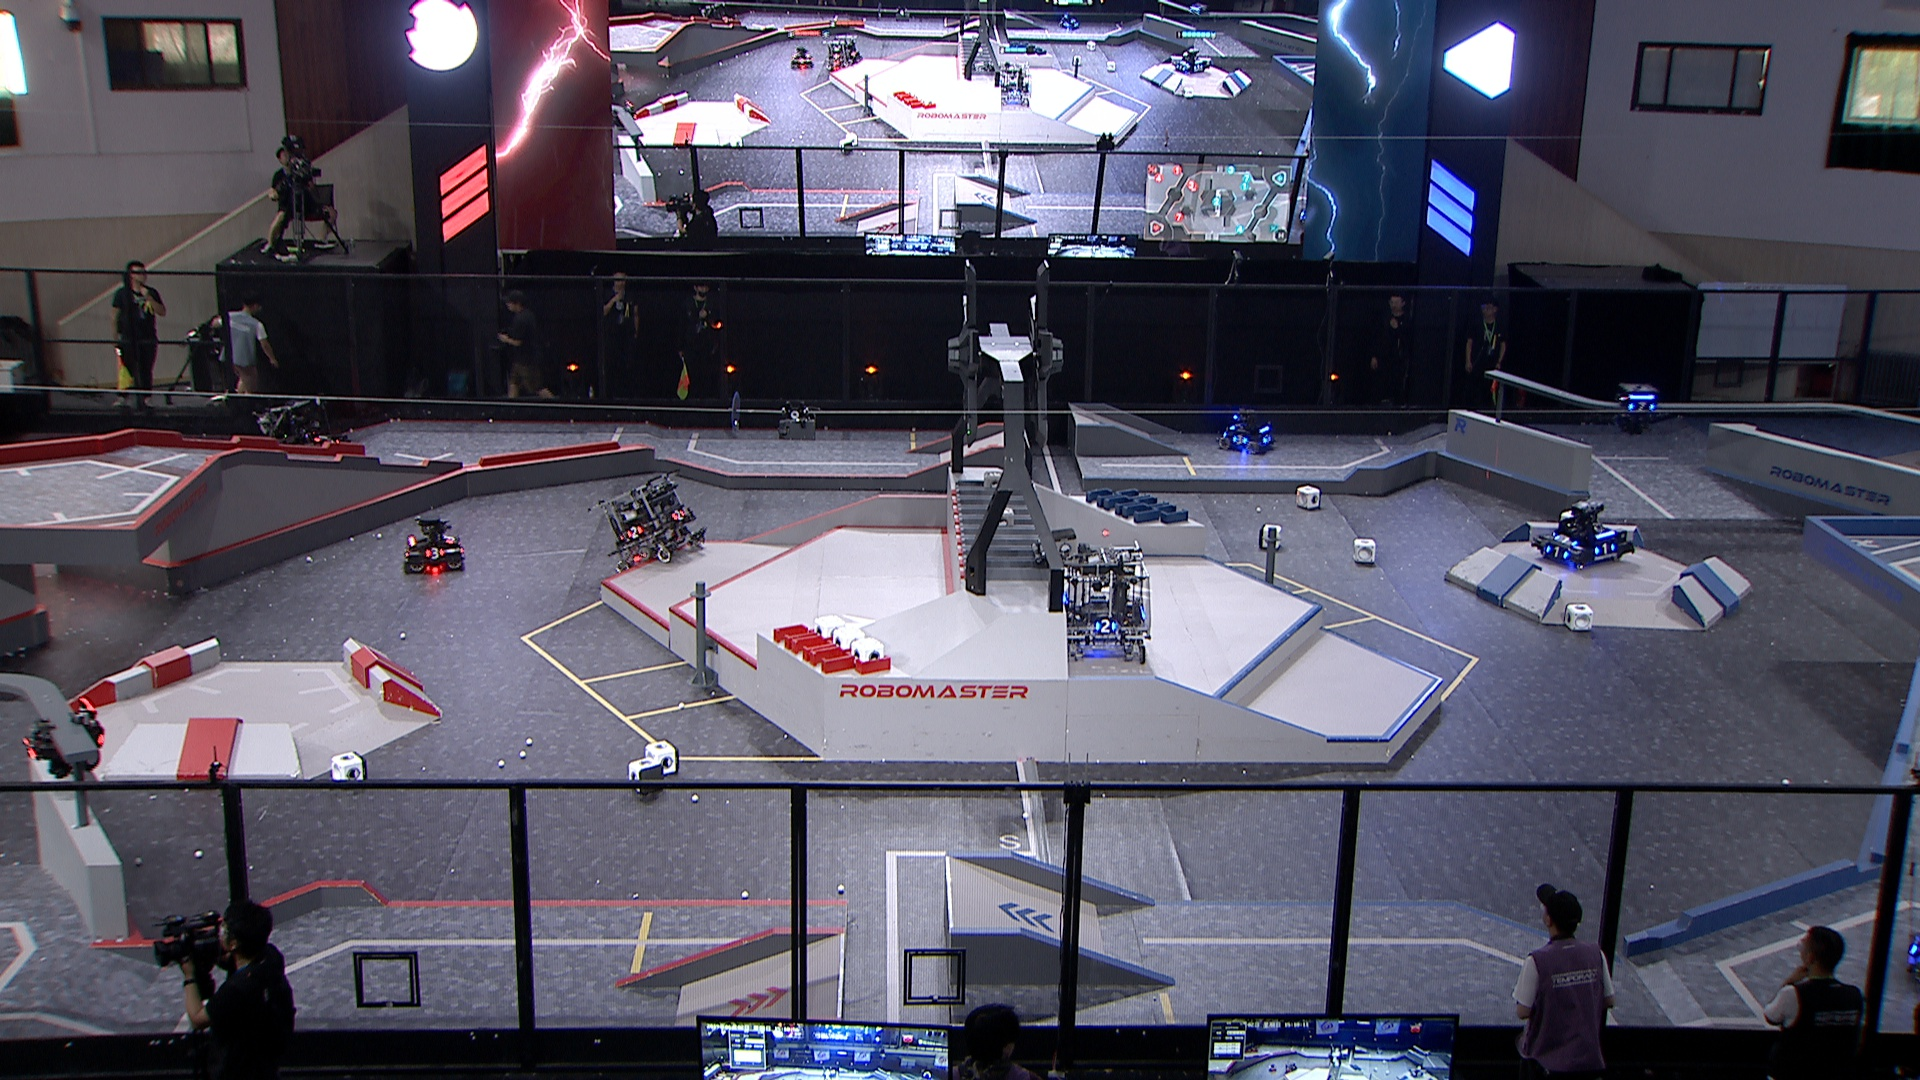armor: (1551, 531, 1580, 549), (20, 736, 38, 761), (1543, 542, 1569, 559), (1592, 541, 1618, 555), (624, 524, 645, 541), (1093, 617, 1116, 633), (1627, 401, 1656, 413), (311, 429, 334, 442), (423, 547, 444, 560), (667, 508, 686, 522), (440, 531, 458, 545), (1233, 433, 1249, 446)
car: (1044, 541, 1154, 665), (589, 469, 711, 576), (1528, 495, 1636, 571), (253, 396, 353, 477), (400, 513, 465, 575), (1221, 407, 1278, 454)
ignore: (993, 61, 1034, 107), (823, 32, 862, 71), (1171, 49, 1211, 76), (787, 46, 814, 71)
watcher: (16, 695, 105, 781), (1614, 380, 1660, 434)
